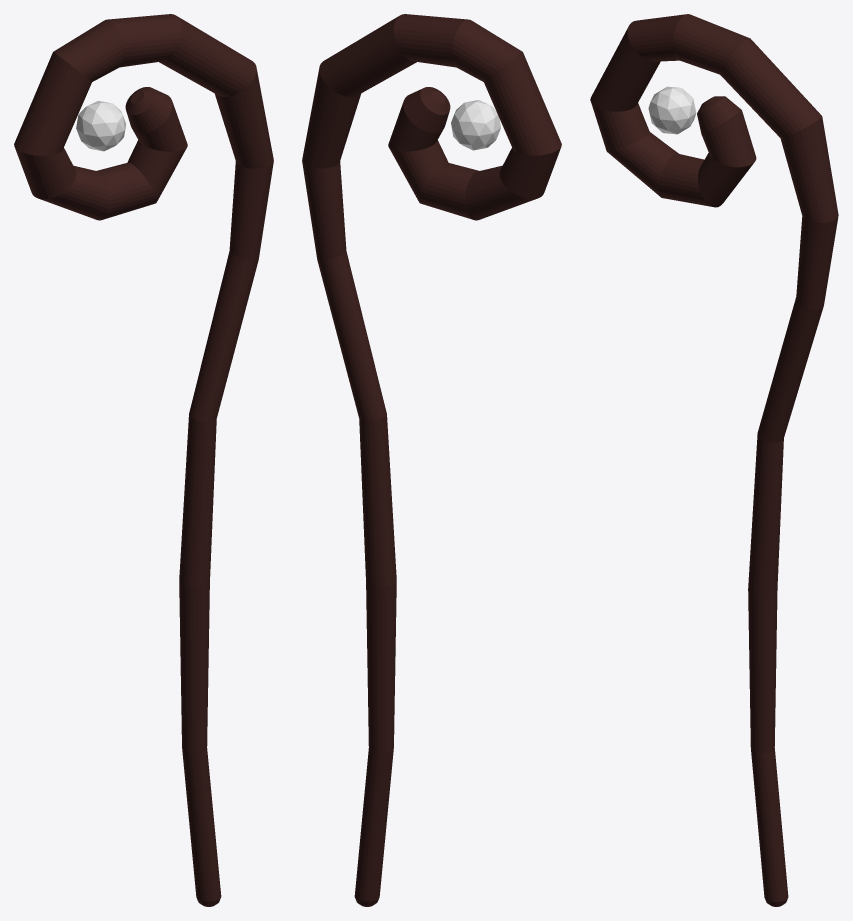
File: staff.glb
The picture shows the model from 3 angles, left to right: view 1: azimuth 30°, elevation 25°; view 2: azimuth 150°, elevation 25°; view 3: azimuth 330°, elevation 25°; orthographic projection. The views are drawn at different scales.
Parts seen in each view (by area): view 1: Cylinder, Icosphere; view 2: Cylinder, Icosphere; view 3: Cylinder, Icosphere.
Part boxes in pixels (left/top/right/bottom): Cylinder: left=14, top=14, right=273, bottom=906; Icosphere: left=76, top=101, right=126, bottom=151; Cylinder: left=302, top=14, right=561, bottom=906; Icosphere: left=451, top=100, right=500, bottom=150; Cylinder: left=590, top=14, right=838, bottom=906; Icosphere: left=648, top=86, right=696, bottom=134.
Size of the model in its own units: 0.8852 by 3.02 by 0.1561.
